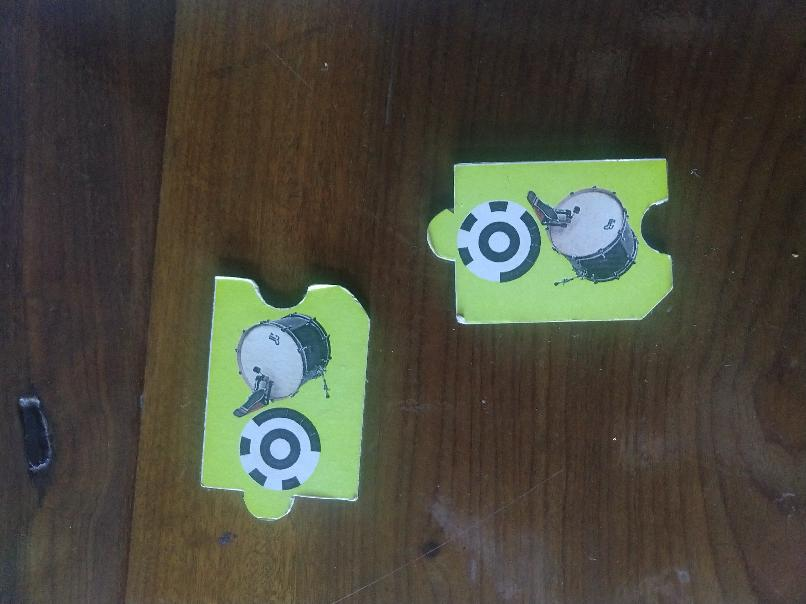bumbo: (425, 153, 677, 325), (202, 273, 368, 518)
